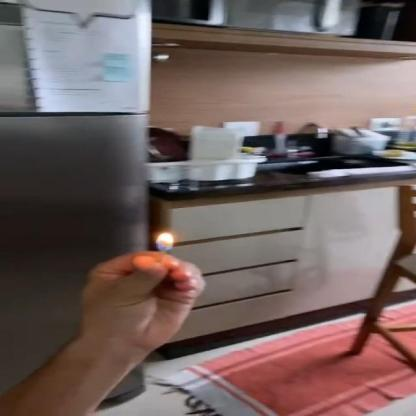fire: (154, 230, 174, 254)
